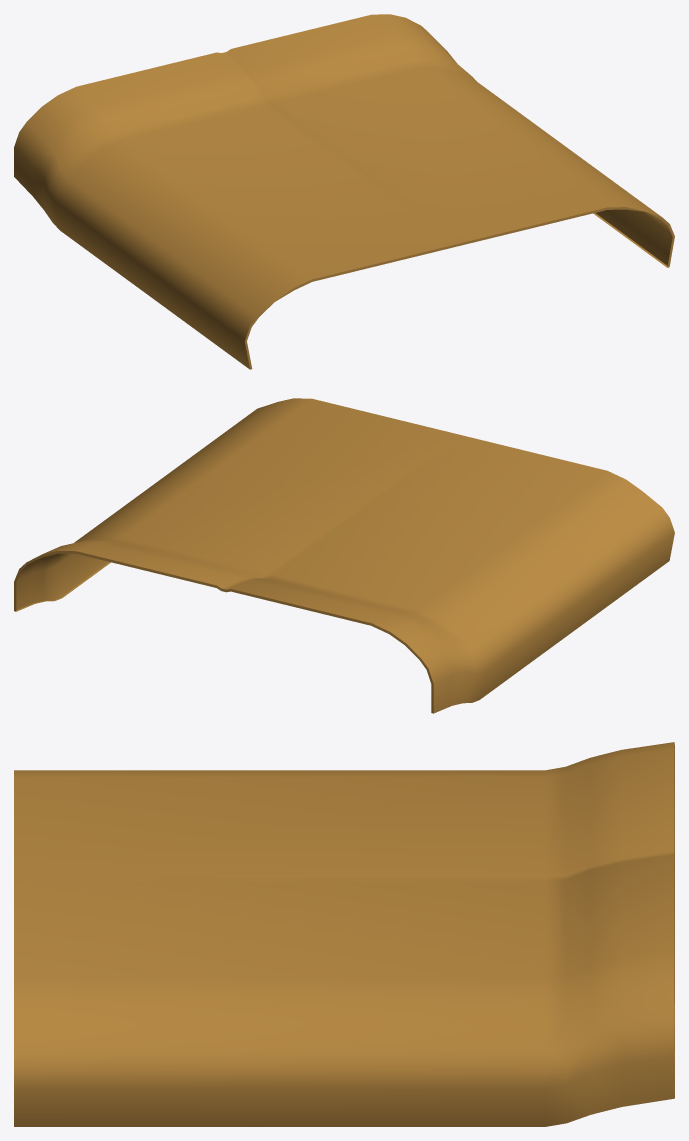
The model's file is Queen_Bed_Sheet.fbx.
3 views of the same model, one above another, from view 1: azimuth 30°, elevation 25°; view 2: azimuth 150°, elevation 25°; view 3: azimuth 270°, elevation 25° (orthographic). The views are drawn at different scales.
Parts seen in each view (by area): view 1: Queen_Bed_Sheet; view 2: Queen_Bed_Sheet; view 3: Queen_Bed_Sheet.
Boxes of the visible parts, <box> form: Queen_Bed_Sheet: <box>14,14,674,369</box>; Queen_Bed_Sheet: <box>14,398,674,713</box>; Queen_Bed_Sheet: <box>14,742,674,1126</box>.
Bounding box in the file's own units: 181 × 38.24 × 172.
1 material, 1 textured.
